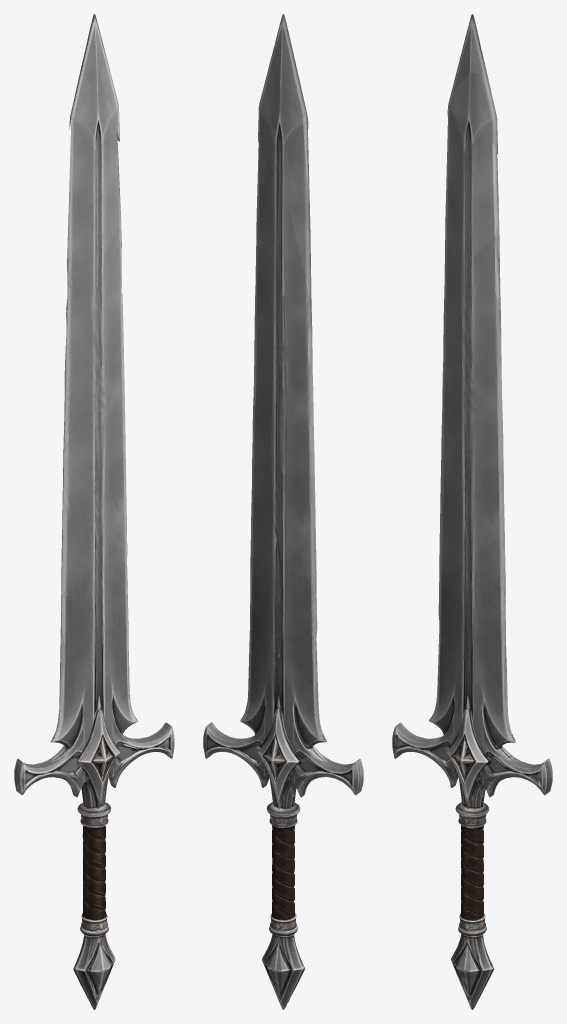
File: GRS055_Remesh_10k.fbx
3 views of the same model, side by side, from view 1: azimuth 30°, elevation 25°; view 2: azimuth 150°, elevation 25°; view 3: azimuth 330°, elevation 25° (orthographic).
Visible parts, largest first — view 1: output_unwrapped; view 2: output_unwrapped; view 3: output_unwrapped.
Part boxes in pixels (left/top/right/bottom): output_unwrapped: left=14, top=14, right=174, bottom=1009; output_unwrapped: left=203, top=14, right=363, bottom=1009; output_unwrapped: left=392, top=14, right=552, bottom=1009.
Size of the model in its own units: 31.06 by 190 by 7.73.
1 material, 1 textured.
